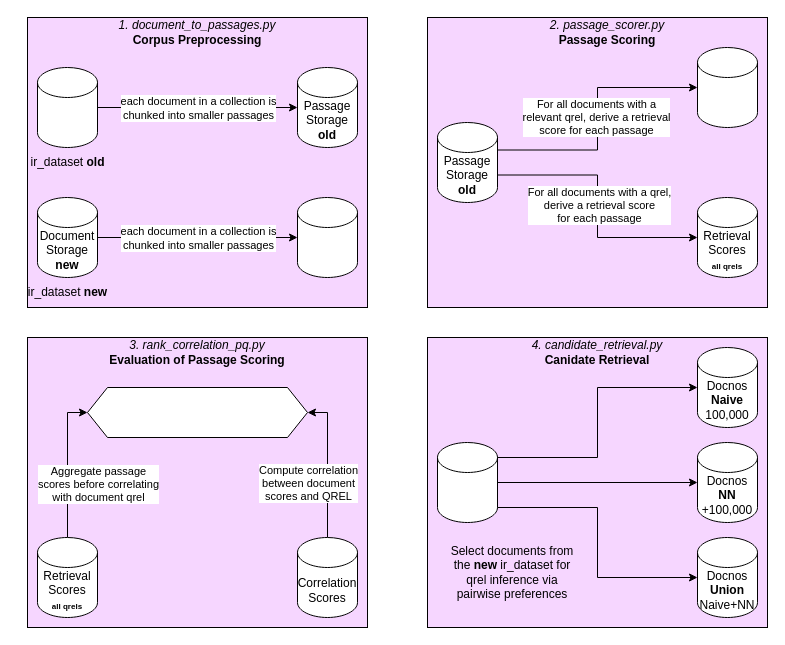
Image size: 785x645. Some labels were removed from this diagram. Each missing label, with the centre of its shape:
"Document Storage old" belongs at point (67, 107).
"for all: metrics for all: aggregation methods for all: transformation methods" belongs at point (197, 412).
"Passage Storage new" belongs at point (327, 237).
"Retrieval Scores relevant qrels" belongs at point (727, 87).
"TREC Topics (e.g. 50)" belongs at point (467, 482).
